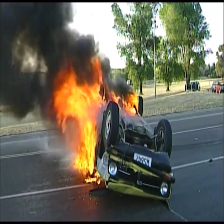fire_h: (54, 55, 104, 174), (122, 90, 141, 117)
fire_l: (106, 86, 121, 104), (85, 170, 100, 185)
